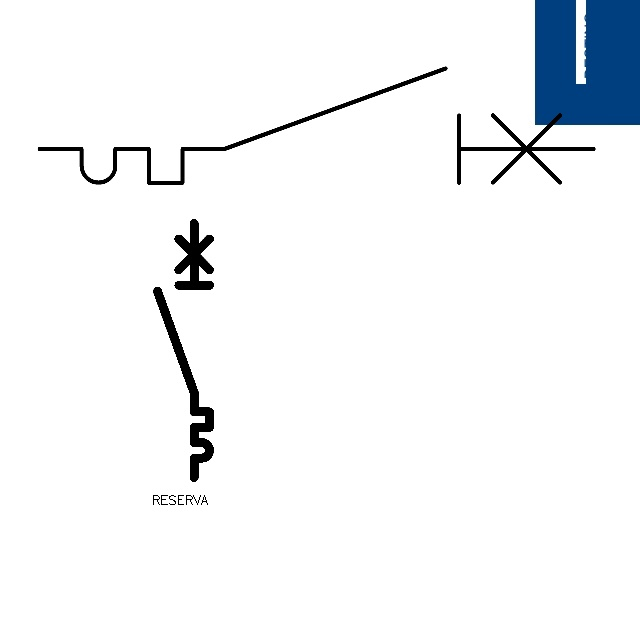interruptor_termomagnetico: (25, 54, 608, 197), (151, 217, 216, 484)
